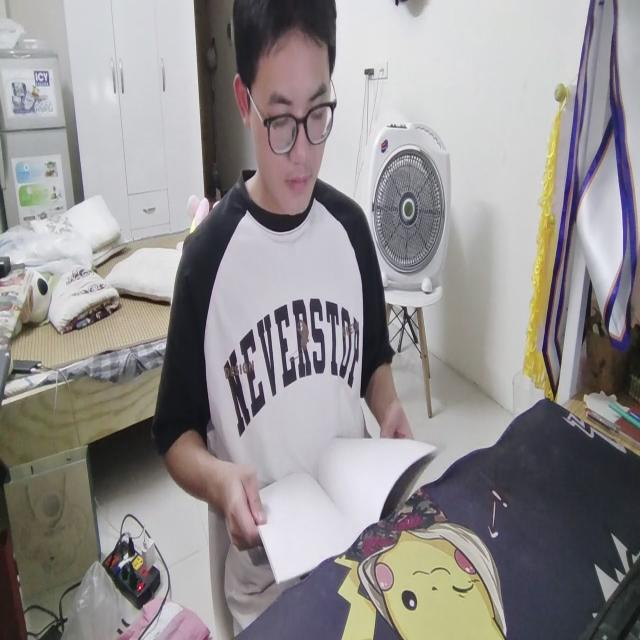book: (244, 429, 437, 577)
student: (151, 0, 415, 609)
